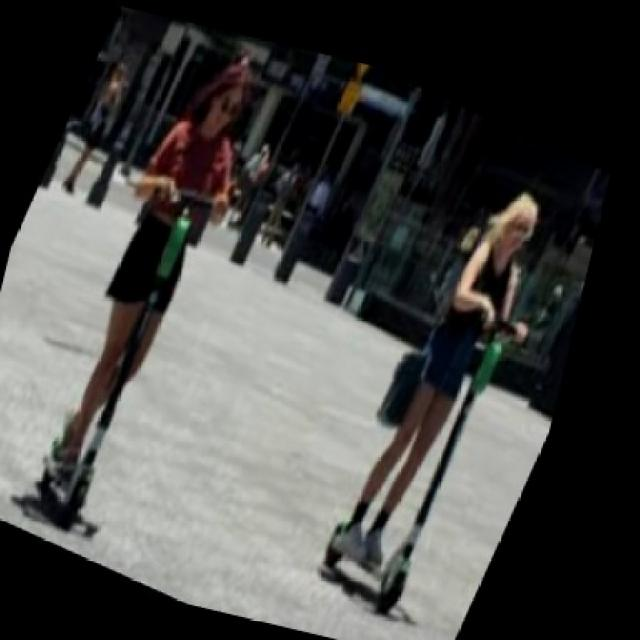bare_head: (187, 61, 270, 137), (493, 180, 553, 251)
human: (28, 30, 252, 523), (330, 142, 535, 548)
kickboard: (309, 510, 417, 620), (19, 441, 107, 540)
